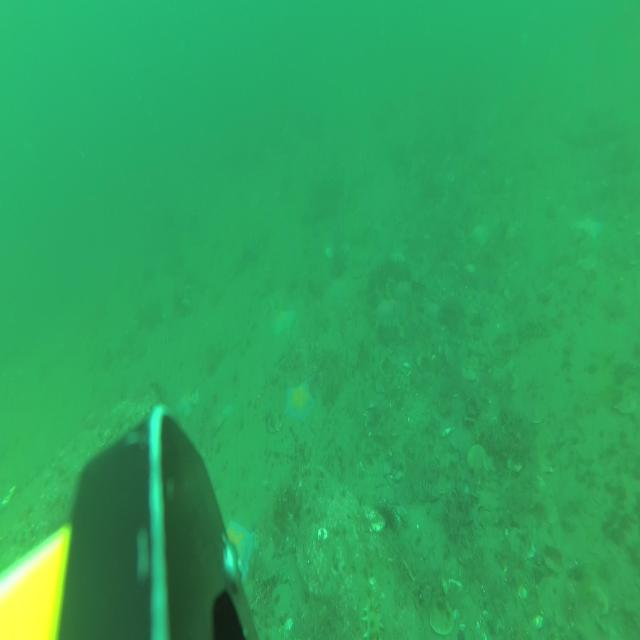echinus: (372, 498, 400, 538)
holothurian: (359, 596, 384, 640), (519, 320, 551, 340)
scallop: (428, 588, 456, 636), (507, 525, 537, 562), (584, 582, 610, 621), (410, 523, 435, 560), (466, 442, 487, 476), (542, 546, 564, 576), (613, 395, 637, 416), (524, 405, 546, 425), (359, 434, 376, 456), (266, 411, 282, 434), (482, 455, 498, 475), (461, 366, 478, 383), (464, 354, 480, 371)
starfish: (223, 516, 260, 584), (282, 376, 316, 427), (572, 210, 607, 242), (172, 390, 201, 425), (270, 306, 295, 340), (468, 220, 492, 250), (373, 296, 393, 324)
